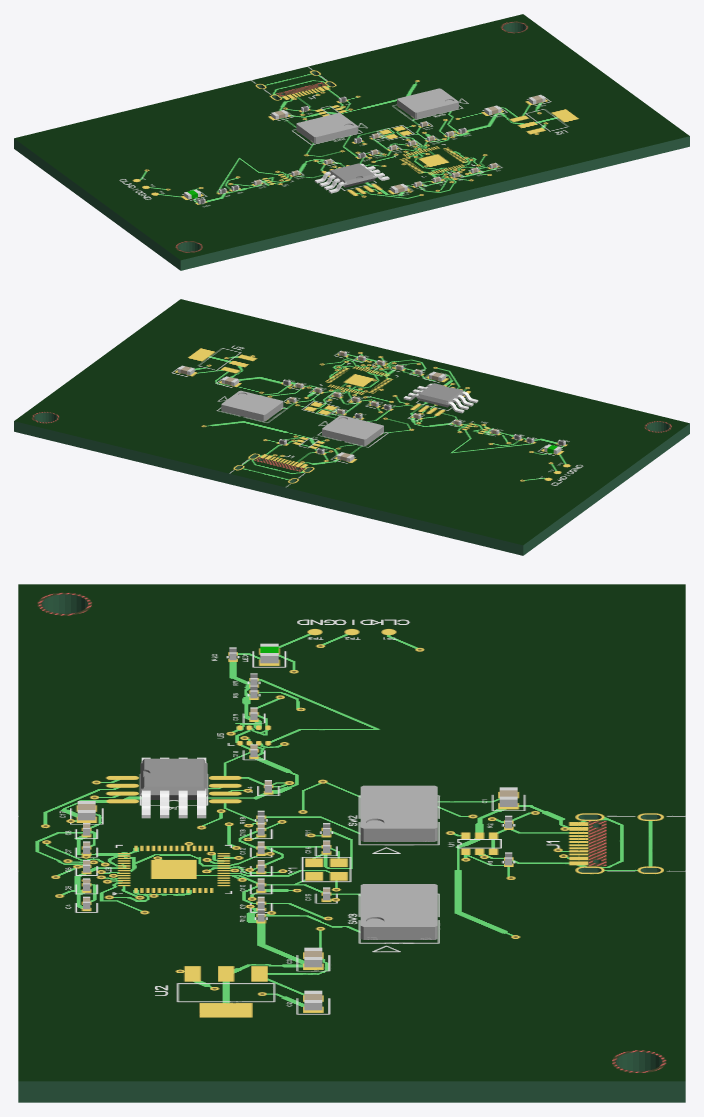
3 renders of one model, top to bottom at view 1: azimuth 30°, elevation 25°; view 2: azimuth 150°, elevation 25°; view 3: azimuth 270°, elevation 25°, orthographic. The views are drawn at different scales.
Visible parts, largest first — view 1: Box0, SW2, SW3, U4; view 2: Box0, SW3, SW2, U4; view 3: Box0, SW2, SW3, U4.
Boxes of the visible parts, x1=… form: Box0: x1=14, y1=14, x2=689, y2=270; SW2: x1=296, y1=113, x2=358, y2=143; SW3: x1=397, y1=88, x2=458, y2=119; U4: x1=314, y1=163, x2=389, y2=193; Box0: x1=14, y1=299, x2=689, y2=555; SW3: x1=221, y1=390, x2=283, y2=421; SW2: x1=322, y1=415, x2=383, y2=445; U4: x1=403, y1=383, x2=478, y2=413; Box0: x1=18, y1=584, x2=685, y2=1102; SW2: x1=360, y1=785, x2=437, y2=841; SW3: x1=360, y1=884, x2=437, y2=939; U4: x1=140, y1=757, x2=207, y2=818.
Size of the model in its own units: 80.9 by 2.88 by 45.9.
10 materials, 2 textured.
